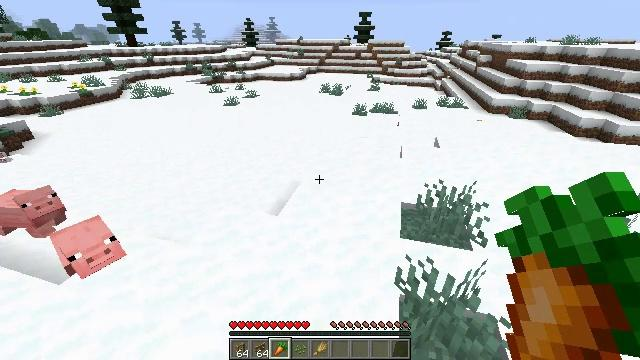pig: (50, 216, 127, 277), (0, 186, 67, 238)
